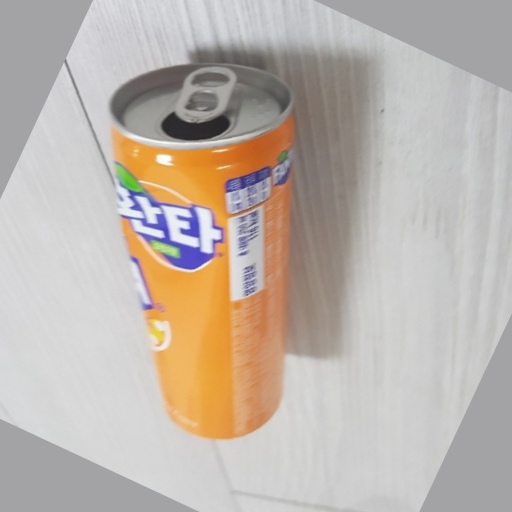Metal_0: (105, 60, 297, 439)
